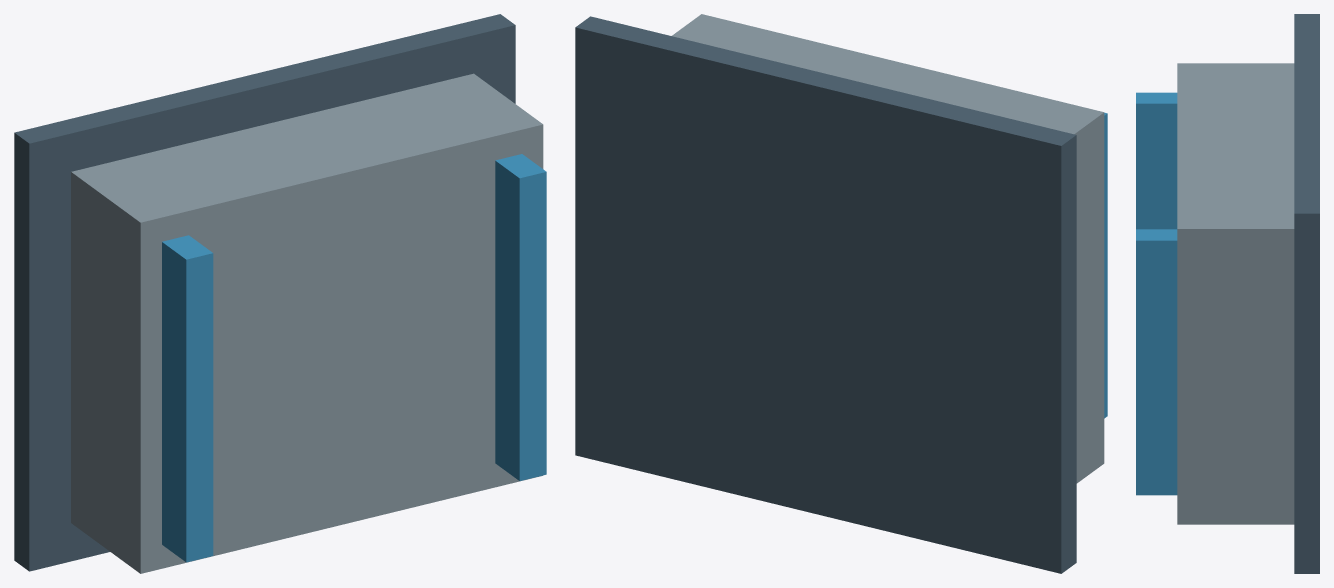
The model's file is b_hq_stage2.glb.
3 renders of one model, left to right at view 1: azimuth 30°, elevation 25°; view 2: azimuth 150°, elevation 25°; view 3: azimuth 270°, elevation 25°, orthographic. The views are drawn at different scales.
Parts seen in each view (by area): view 1: main_structure, foundation, support_-2.16, support_2.16; view 2: foundation, main_structure, support_-2.16; view 3: main_structure, foundation, support_2.16, support_-2.16.
Boxes of the visible parts, left/top/right/bottom form: main_structure: left=71, top=73, right=543, bottom=573; foundation: left=14, top=14, right=515, bottom=571; support_-2.16: left=162, top=235, right=213, bottom=562; support_2.16: left=495, top=154, right=546, bottom=480; foundation: left=575, top=16, right=1076, bottom=573; main_structure: left=672, top=14, right=1104, bottom=483; support_-2.16: left=1104, top=112, right=1107, bottom=418; main_structure: left=1177, top=63, right=1294, bottom=524; foundation: left=1294, top=14, right=1319, bottom=573; support_2.16: left=1136, top=229, right=1177, bottom=495; support_-2.16: left=1136, top=92, right=1177, bottom=229.
Size of the model in its own units: 6.3 by 5.3 by 2.45.
